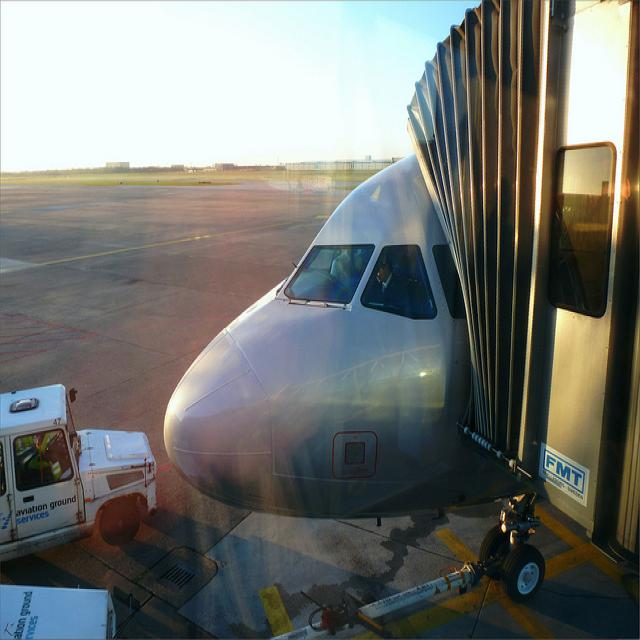Vehicle: (1, 386, 155, 563)
